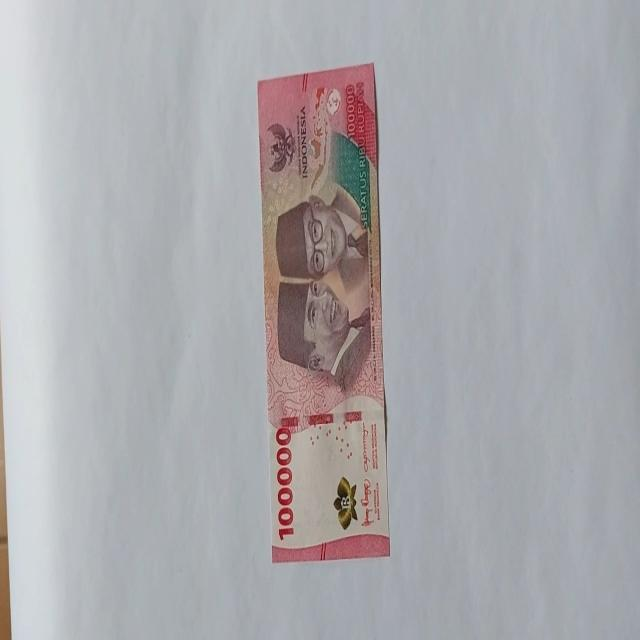seratus ribu rupiah: (257, 62, 390, 561), (274, 191, 372, 389)
